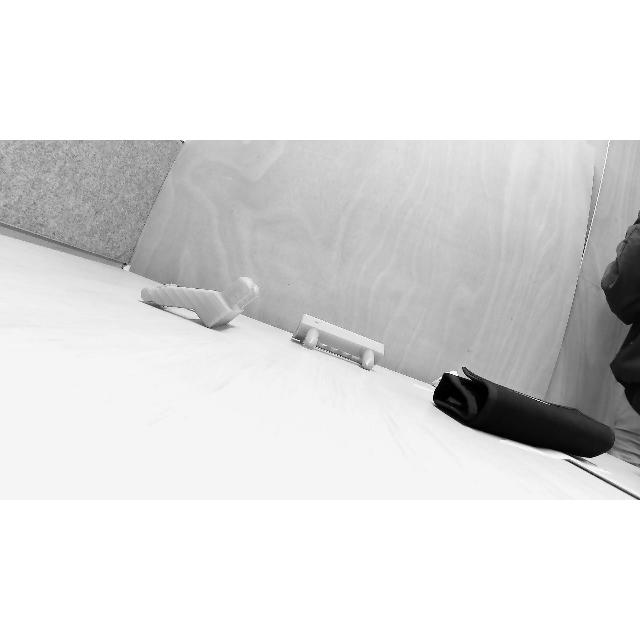targets: (435, 368, 619, 458), (138, 276, 264, 330), (292, 309, 386, 373)
